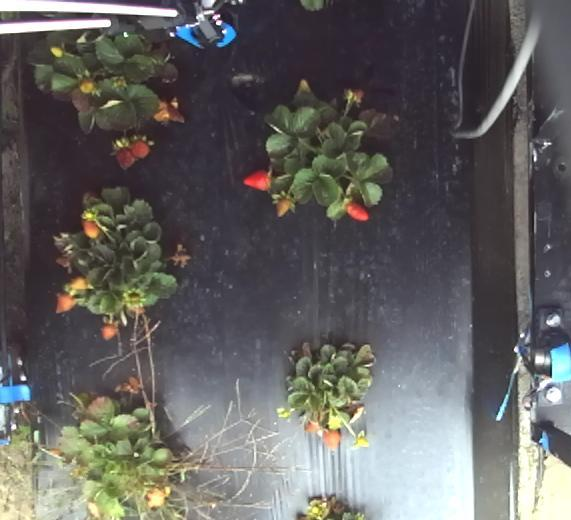mature: (242, 168, 271, 192), (344, 200, 369, 222), (54, 290, 76, 314), (323, 426, 341, 454), (98, 322, 123, 342), (114, 146, 135, 169), (129, 139, 150, 158)
